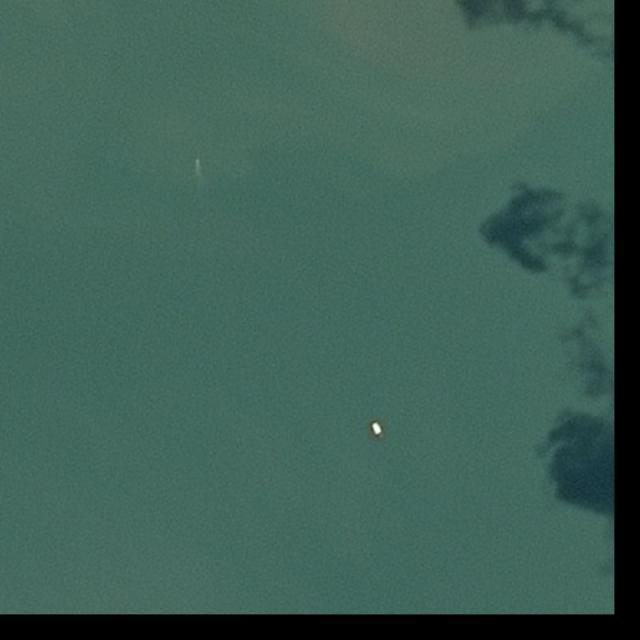ship: (370, 420, 385, 437), (196, 158, 200, 163)
